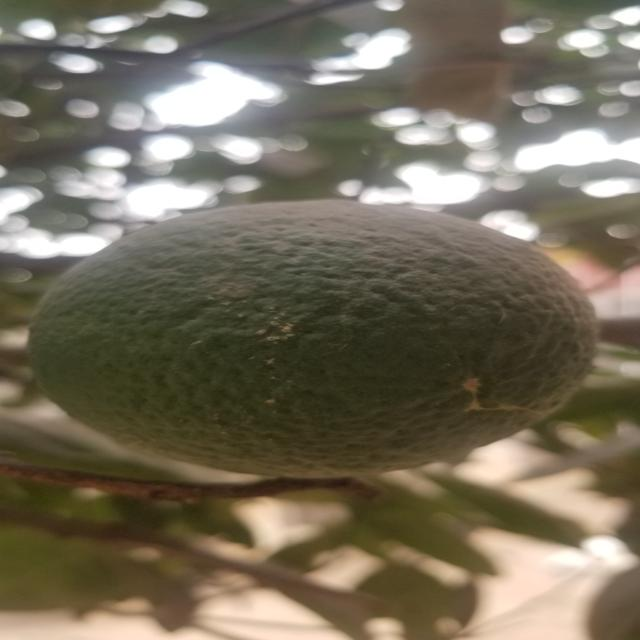Unripe: (39, 203, 591, 475)
